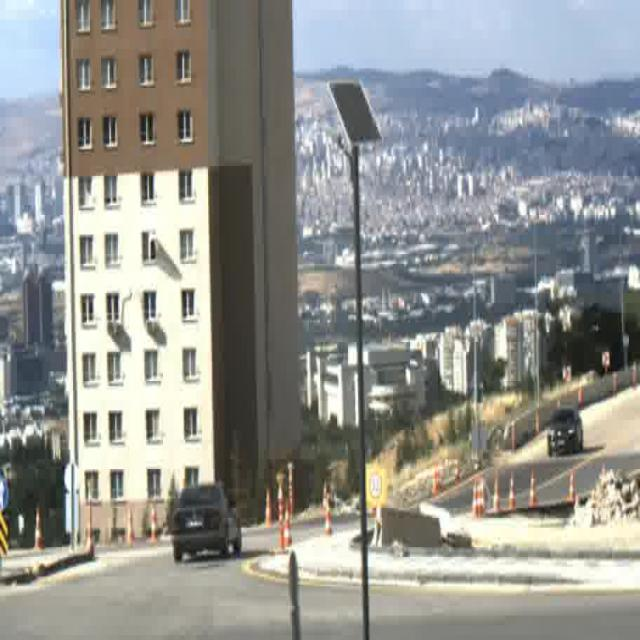Car: (172, 482, 242, 563), (548, 403, 584, 457)
